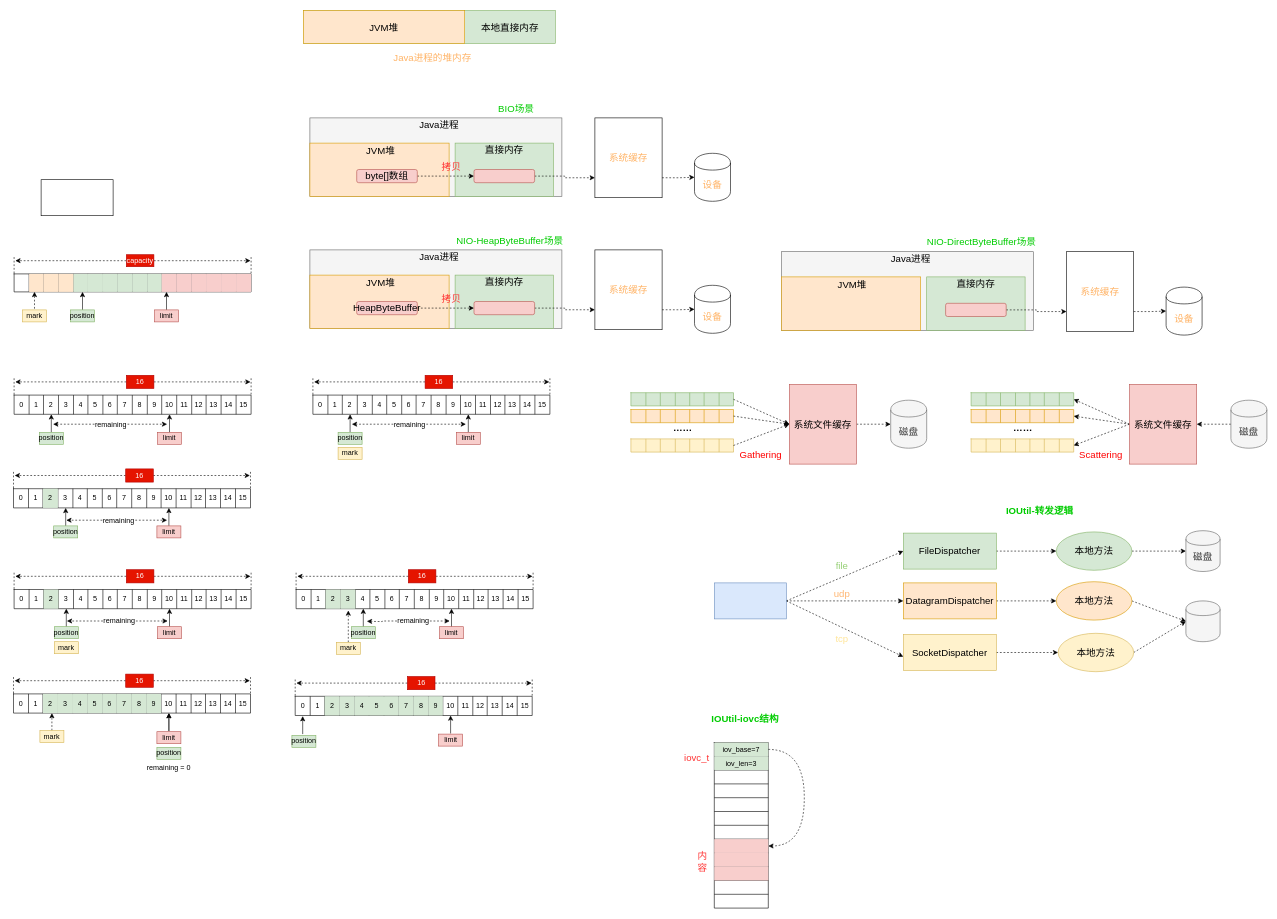
Image size: 1277x919. Some labels were removed from this diagram. The shapes that lost their labels are listed below. From the top down, each one's box as (x1, y1, x2, y2) in pixels, then its label:
(945, 303, 1006, 316): DirectByteBuffer
(714, 582, 786, 619): IOUtil
(1185, 600, 1220, 642): 网络
